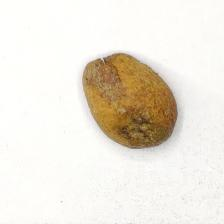NG: (81, 54, 130, 99), (117, 120, 172, 149)
